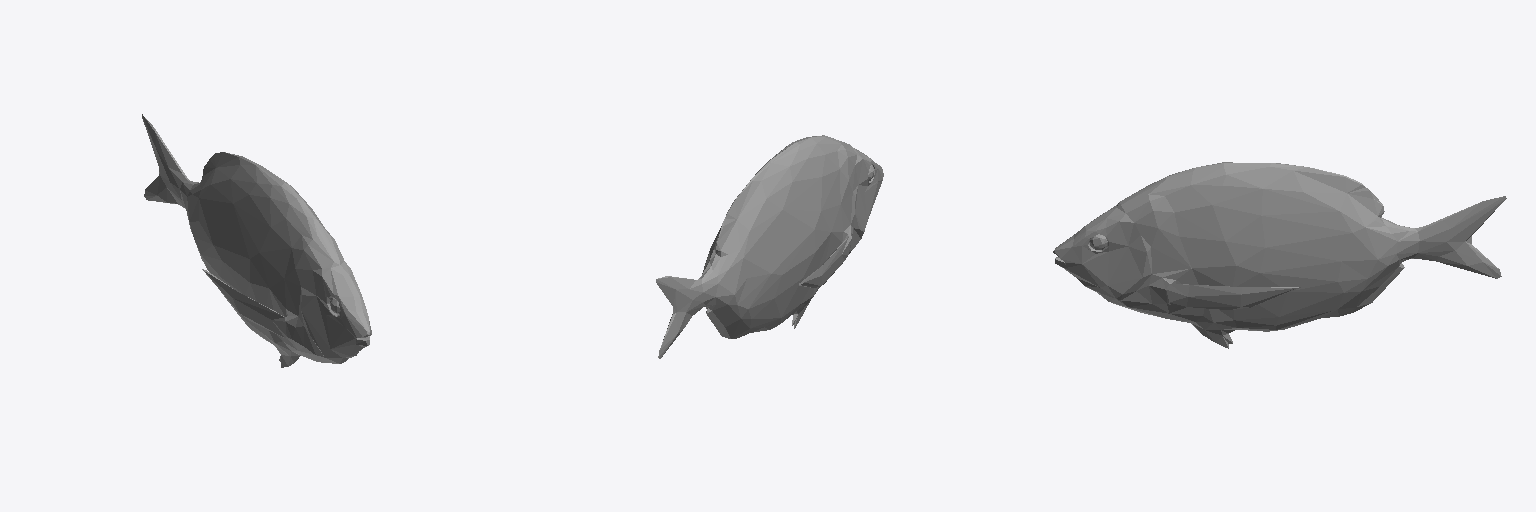
File: Fish5.obj
3 renders of one model, left to right at view 1: azimuth 30°, elevation 25°; view 2: azimuth 150°, elevation 25°; view 3: azimuth 270°, elevation 25°, orthographic.
Visible parts, largest first — view 1: Plane; view 2: Plane; view 3: Plane.
Part boxes in pixels (x1,y1,x2,y2): Plane: (142, 114, 371, 367); Plane: (656, 135, 883, 358); Plane: (1053, 162, 1506, 348).
Size of the model in its own units: 105 by 212 by 467.